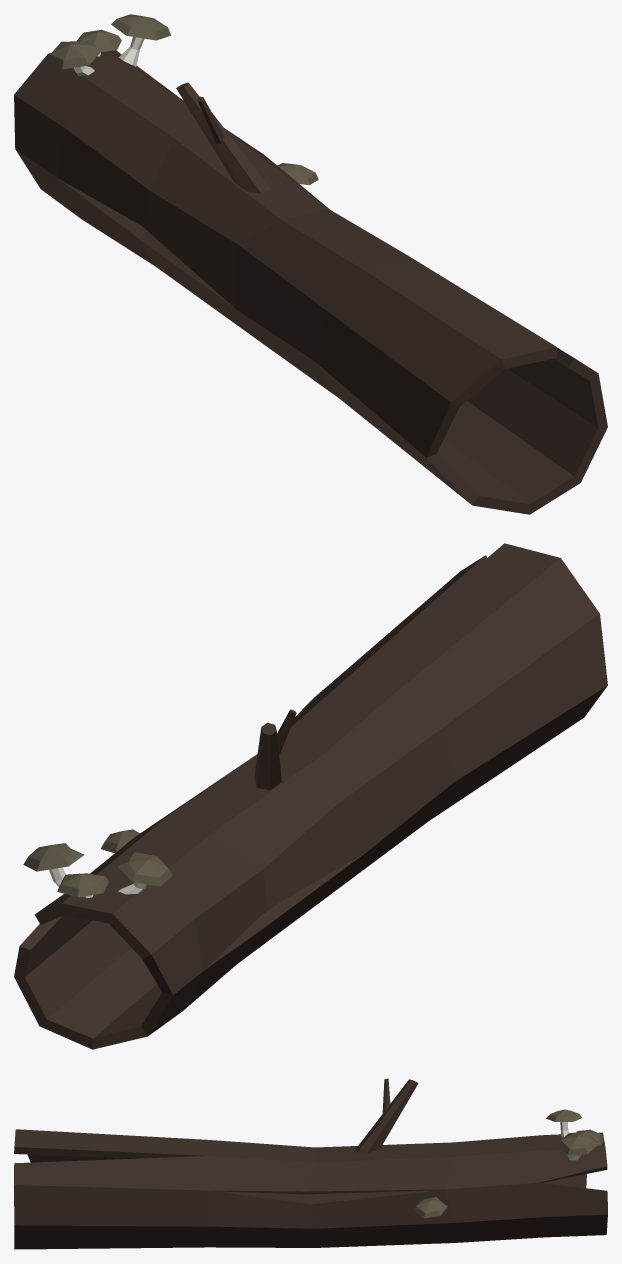
Rendered from WoodLog_3.fbx.
3 views of the same model, one above another, from view 1: azimuth 30°, elevation 25°; view 2: azimuth 150°, elevation 25°; view 3: azimuth 270°, elevation 25° (orthographic). The views are drawn at different scales.
Parts seen in each view (by area): view 1: WoodLog_3; view 2: WoodLog_3; view 3: WoodLog_3.
Part boxes in pixels (<box>): WoodLog_3: <box>14,14,607,514</box>; WoodLog_3: <box>14,543,607,1049</box>; WoodLog_3: <box>14,1078,607,1249</box>.
Size of the model in its own units: 1.9 by 2.24 by 8.
